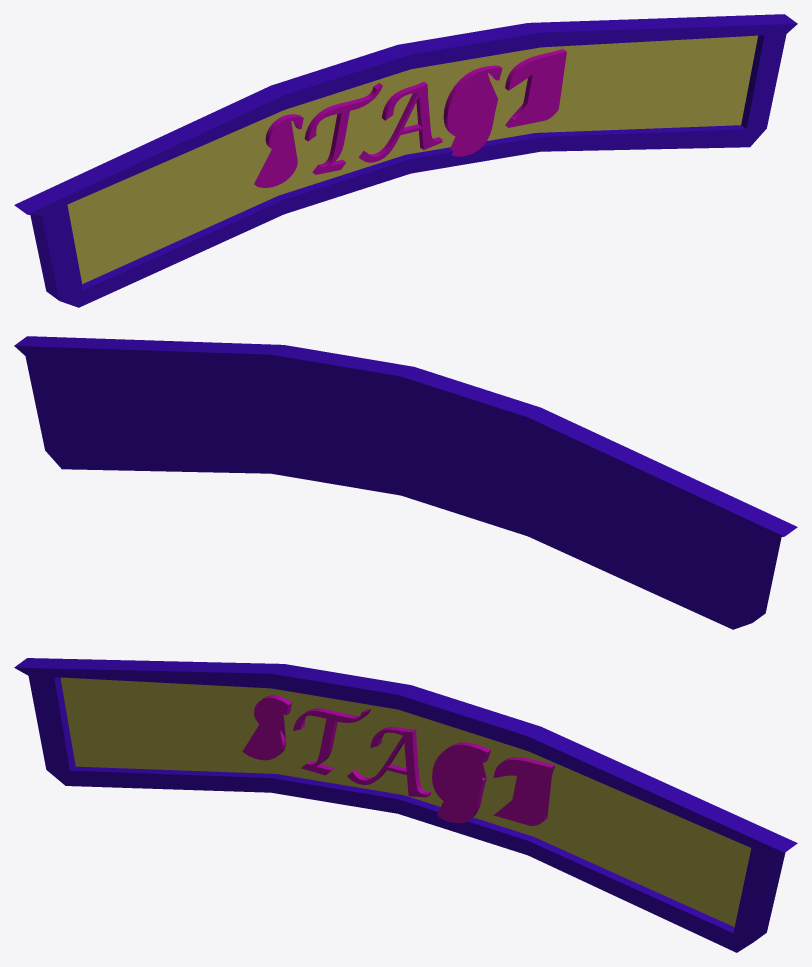
The model's file is Stage_sign.fbx.
The picture shows the model from 3 angles, top to bottom: view 1: azimuth 30°, elevation 25°; view 2: azimuth 150°, elevation 25°; view 3: azimuth 330°, elevation 25°; orthographic projection.
Parts seen in each view (by area): view 1: polySurface187; view 2: polySurface187; view 3: polySurface187.
Part boxes in pixels (x1=…): polySurface187: x1=14, y1=14, x2=797, y2=307; polySurface187: x1=14, y1=336, x2=797, y2=629; polySurface187: x1=14, y1=658, x2=797, y2=952.
Size of the model in its own units: 16.23 by 3.53 by 0.5191.
